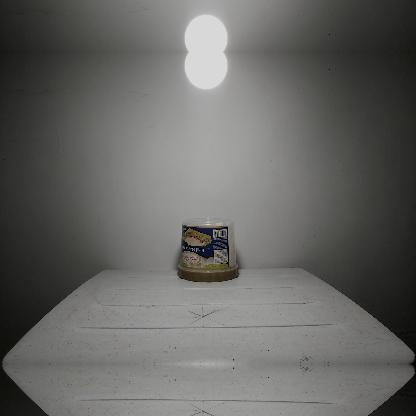Lady-s-Choice: (178, 216, 238, 282)
